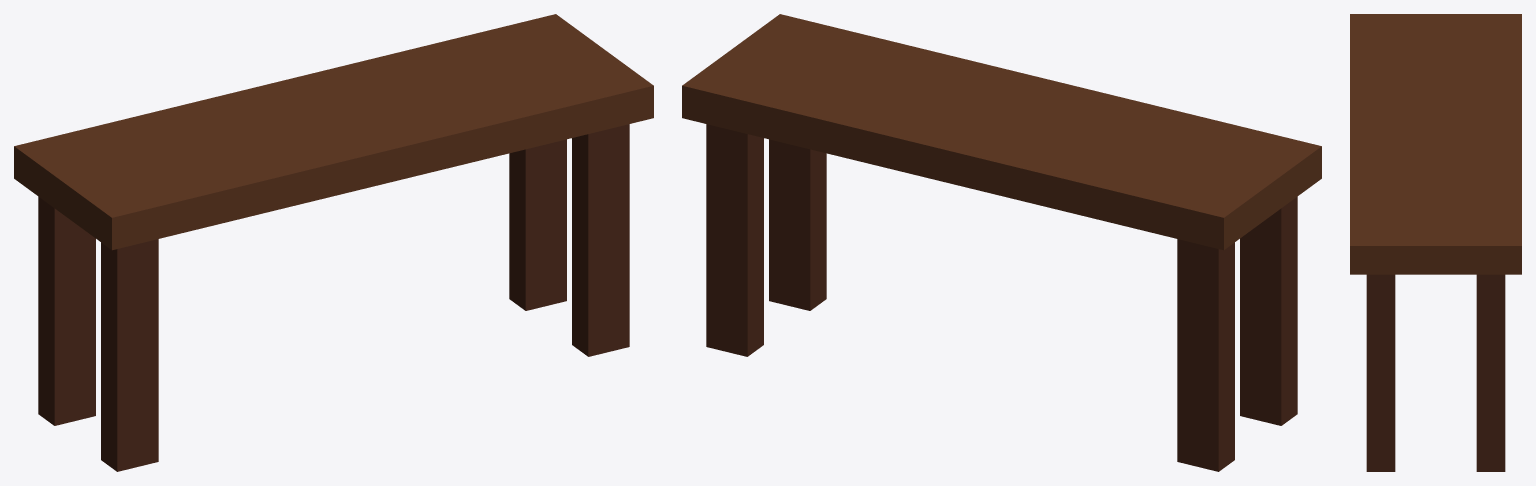
Rendered from mould_bench.glb.
The picture shows the model from 3 angles, left to right: view 1: azimuth 30°, elevation 25°; view 2: azimuth 150°, elevation 25°; view 3: azimuth 270°, elevation 25°; orthographic projection. The views are drawn at different scales.
Parts seen in each view (by area): view 1: body; view 2: body; view 3: body.
Boxes of the visible parts, x1,y1,x2,y2 form: body: [14, 14, 653, 471]; body: [682, 14, 1321, 471]; body: [1350, 14, 1521, 471].
Size of the model in its own units: 1.84 by 0.8586 by 0.576.
Materials: 1 (1 with a texture image).
